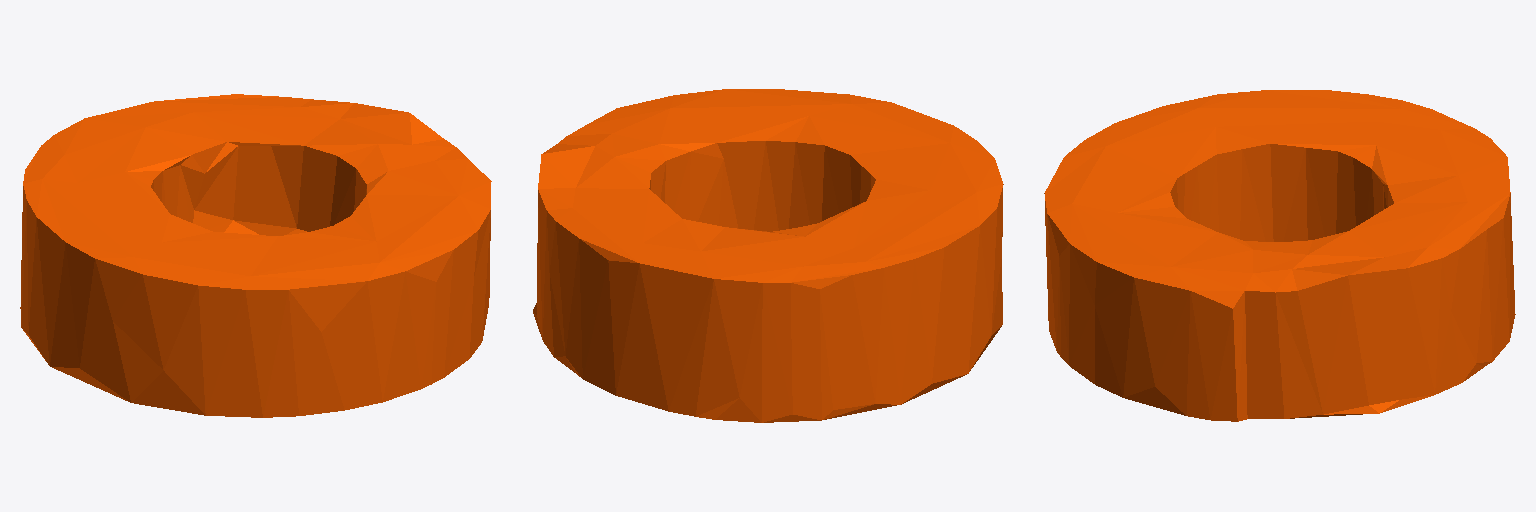
The robot description file, URDF, robot "big_tape":
<?xml version="1.0" ?>
<robot name="big_tape">
   <material name="obj_color">
      <color rgba="1.0 0.423529411765 0.0392156862745 1.0"/>
   </material>
   <link name="top">
      <inertial>
         <origin rpy="0.0005291768435322998 0.000573155913752631 0.000992570659919749" xyz="-0.002286153022014585 -0.003109014115437789 -0.003871050882178657"/>
         <mass value="0.24875"/>
         <inertia ixx="0.0005509339637104388" ixy="2.197231071243571e-05" ixz="2.728060095801948e-06" iyy="0.0005514304381973601" iyz="-2.68711809914986e-06" izz="0.0009925390152968809"/>
      </inertial>
      <visual>
         <origin rpy="0 0 0" xyz="0 0 0"/>
         <geometry>
            <mesh filename="top_watertight_tiny.stl" scale="1 1 1"/>
         </geometry>
         <material name="obj_color"/>
      </visual>
      <collision>
         <origin rpy="0 0 0" xyz="0 0 0"/>
         <geometry>
            <mesh filename="top_watertight_tiny.obj" scale="1 1 1"/>
         </geometry>
      </collision>
   </link>
   <link name="bottom">
      <inertial>
         <origin rpy="1.633333333194242e-08 1.633333333194243e-08 1.633333333357667e-08" xyz="0.3464080000000008 0.3464080000000008 0.3464080000000008"/>
         <mass value="0.0009800000000000017"/>
         <inertia ixx="1.633333333248717e-08" ixy="5.447480642029219e-19" ixz="5.447480642029219e-19" iyy="1.633333333248717e-08" iyz="5.447480642029219e-19" izz="1.633333333248717e-08"/>
      </inertial>
      <visual>
         <origin rpy="0 0 0" xyz="0 0 0"/>
         <geometry>
            <mesh filename="bottom_watertight_tiny.stl" scale="1 1 1"/>
         </geometry>
         <material name="obj_color"/>
      </visual>
   </link>
   <joint name="rotation" type="revolute">
      <origin xyz="0 0 0"/>
      <axis xyz="0 0 -1"/>
      <parent link="bottom"/>
      <child link="top"/>
      <dynamics damping="1.0" friction="1.0"/>
      <limit effort="0.1" velocity="0.1" lower="0" upper="0.001"/>
   </joint>
</robot>

--- What the picture shows (computed from the rendered views, not written in the file) ---
Views: 3 orthographic renders of the robot side by side, from view 1: azimuth 30°, elevation 25°; view 2: azimuth 150°, elevation 25°; view 3: azimuth 270°, elevation 25°.
Model big_tape with 2 links and 1 joints (1 revolute), rooted at bottom, posed every joint at zero.
Links seen in each view (by area): view 1: top; view 2: top; view 3: top.
Link boxes in pixels (left/top/right/bottom): top: left=20, top=94, right=491, bottom=417; top: left=533, top=89, right=1003, bottom=422; top: left=1044, top=90, right=1515, bottom=421.
Bounding box of the posed robot: 0.1642 × 0.1633 × 0.0541 m (x, y, z).
Meshes: 2 distinct files referenced, 1 mesh visuals loaded (1 binary STL); not drawn: 1 (reference not matched to a file when rendering).